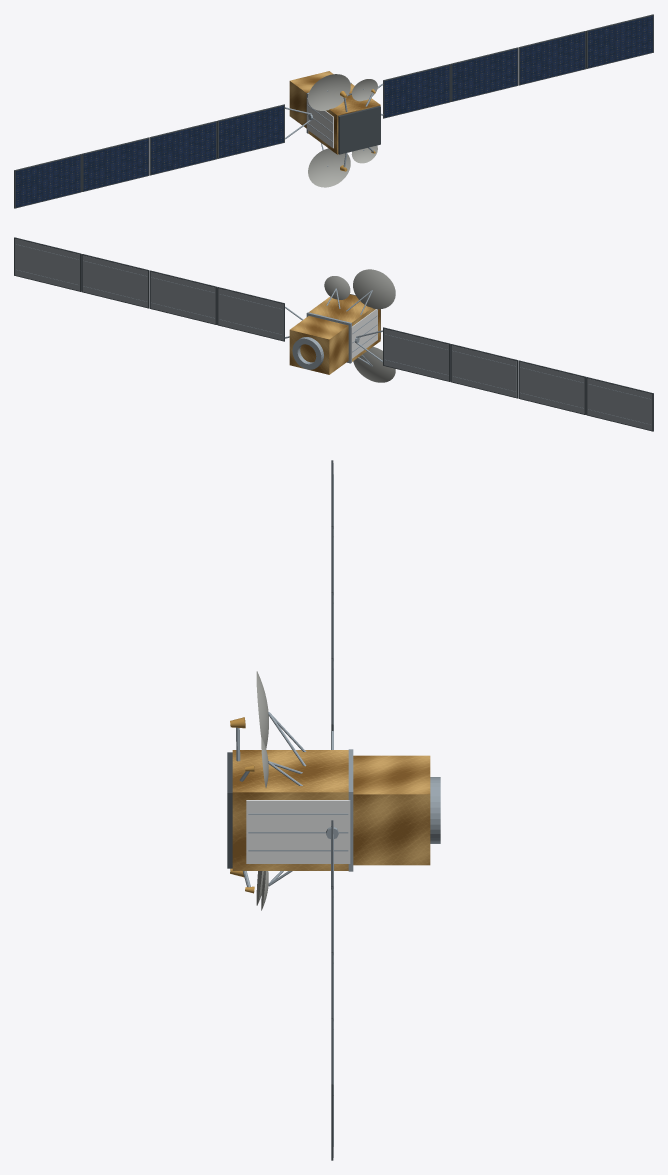
File: ref-spacebus-3000b3-26666.glb
The picture shows the model from 3 angles, top to bottom: view 1: azimuth 30°, elevation 25°; view 2: azimuth 150°, elevation 25°; view 3: azimuth 270°, elevation 25°; orthographic projection. The views are drawn at different scales.
Visible parts, largest first — view 1: Solar cell panel (×8), Communications reflector (×4), Solar panel frame (×8), Earth-facing deck, Service module, Payload module, Radiator face; view 2: Rear array substrate (×8), Solar panel frame (×8), Communications reflector (×3), Service module, Payload module, Radiator face, Launch adapter ring, Module interface; view 3: Service module, Payload module, Radiator face.
Part boxes in pixels (x1,y1,x2,y2): Solar cell panel (×8): [15, 15, 652, 207]; Communications reflector (×4): [308, 74, 377, 187]; Solar panel frame (×8): [14, 14, 653, 208]; Earth-facing deck: [338, 106, 380, 154]; Service module: [289, 71, 333, 128]; Payload module: [308, 83, 380, 154]; Radiator face: [307, 98, 333, 148]; Rear array substrate (×8): [15, 238, 652, 430]; Solar panel frame (×8): [14, 237, 653, 431]; Communications reflector (×3): [324, 269, 395, 382]; Service module: [289, 316, 348, 374]; Payload module: [309, 294, 380, 361]; Radiator face: [351, 309, 377, 358]; Launch adapter ring: [292, 337, 323, 369]; Module interface: [306, 312, 351, 363]; Service module: [353, 755, 430, 865]; Payload module: [232, 750, 348, 870]; Radiator face: [246, 800, 350, 863].
Size of the model in its own units: 36.96 by 6.19 by 5.34.
8 materials, 2 textured.
